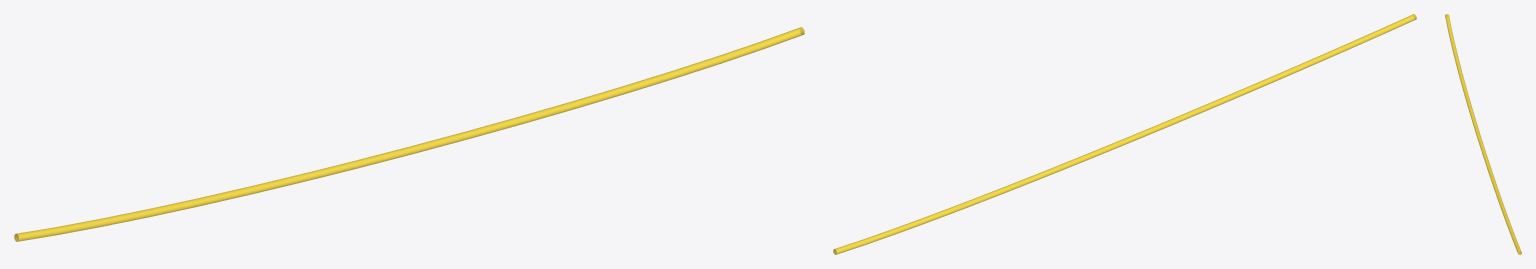
File: Event_17758602_track_79.fbx
3 views of the same model, side by side, from view 1: azimuth 30°, elevation 25°; view 2: azimuth 210°, elevation 25°; view 3: azimuth 270°, elevation 25° (orthographic). The views are drawn at different scales.
Visible parts, largest first — view 1: Model; view 2: Model; view 3: Model.
Boxes of the visible parts, bbox=[...] form: Model: bbox=[14, 27, 804, 241]; Model: bbox=[833, 14, 1416, 254]; Model: bbox=[1445, 14, 1521, 254].
Bounding box in the file's own units: 4.81 × 0.3418 × 0.7453.
